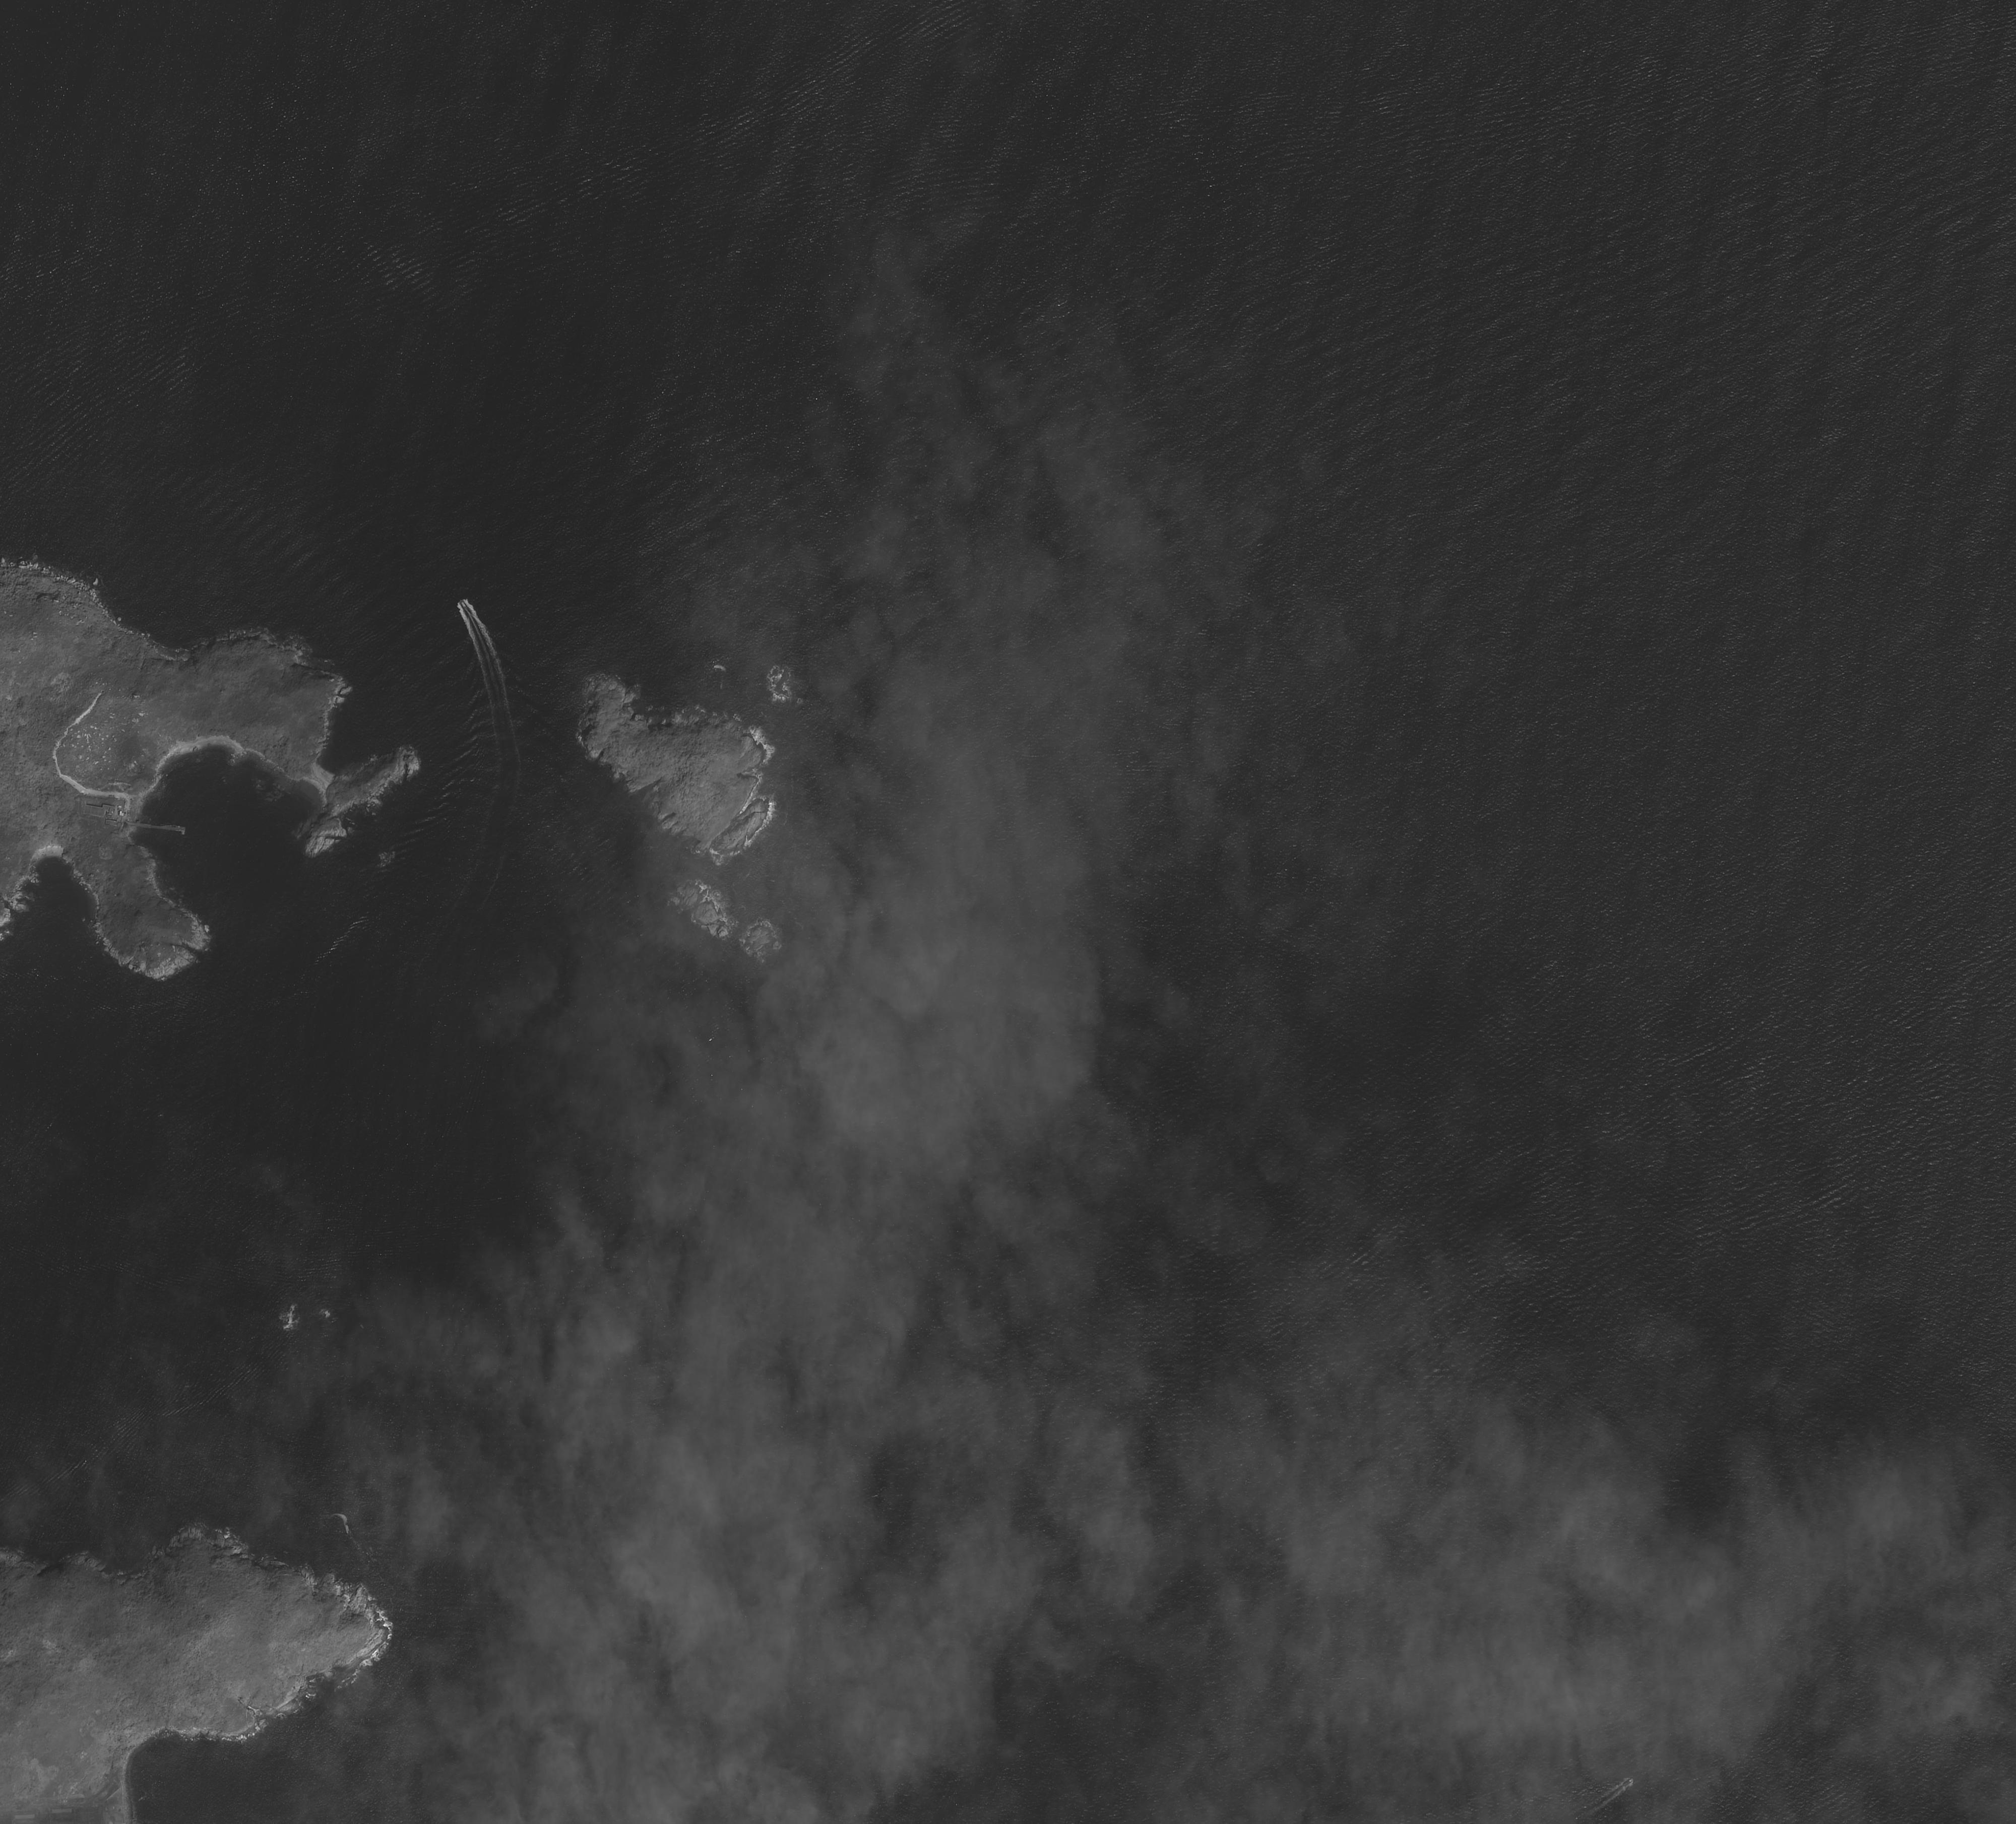ship: (1623, 1775, 1637, 1787), (460, 600, 467, 609)
